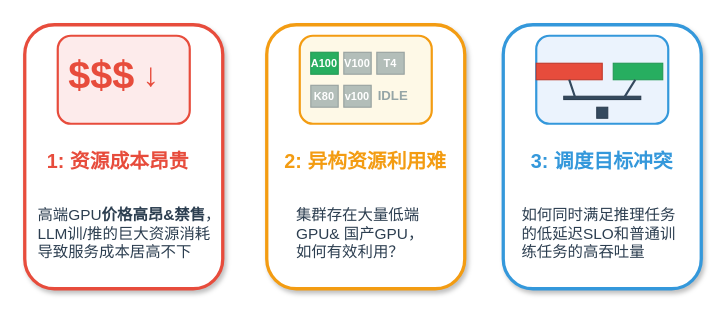
The diagram is 728 pixels wide and 317 high, and some of its shapes have lost their labels. Here are the shapes that lost their labels. From the top down, the centre of each, then its label:
At point (568, 71): "Throughput".
At point (637, 71): "Latency".
